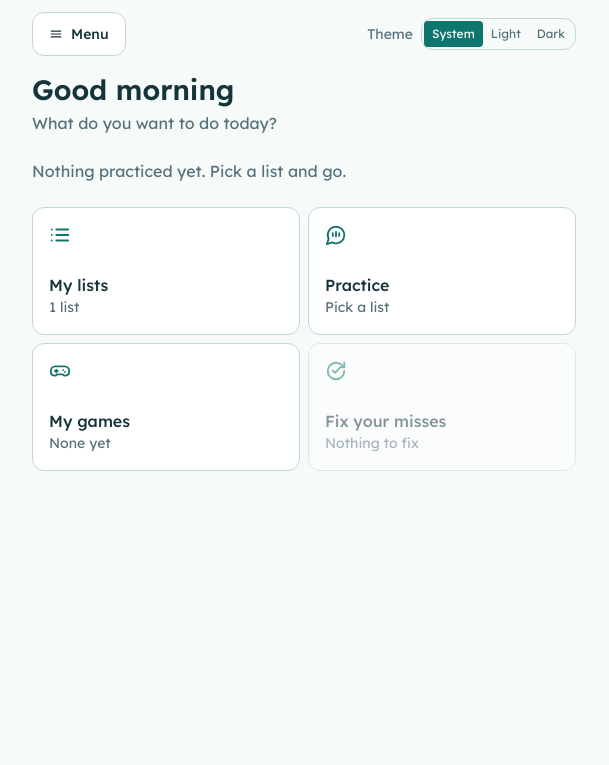
practicing a Dutch/French list › warns by name when the device has no French voice
The width and height of the screenshot is (609, 765).
Click the button "Menu". click: (79, 34)
box: [32,12,126,56]
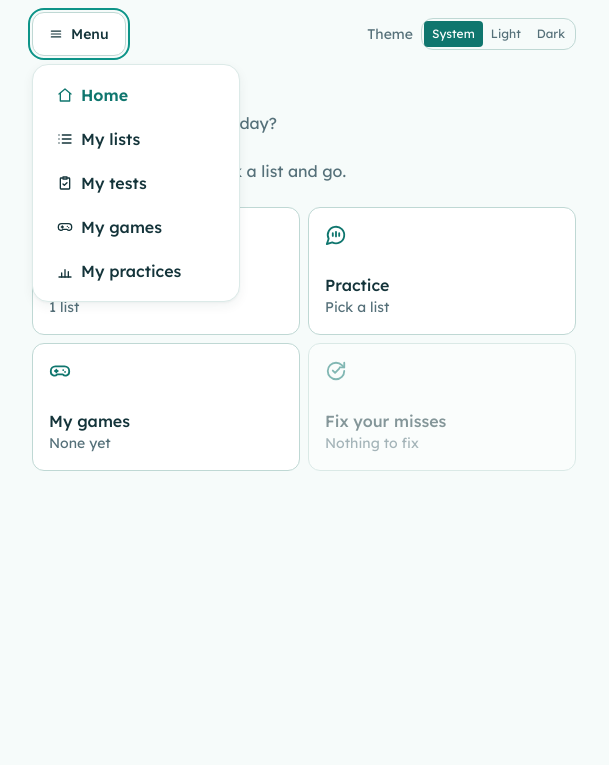
Click the menu item "My lists". click: (136, 139)
box: [41,117,231,161]
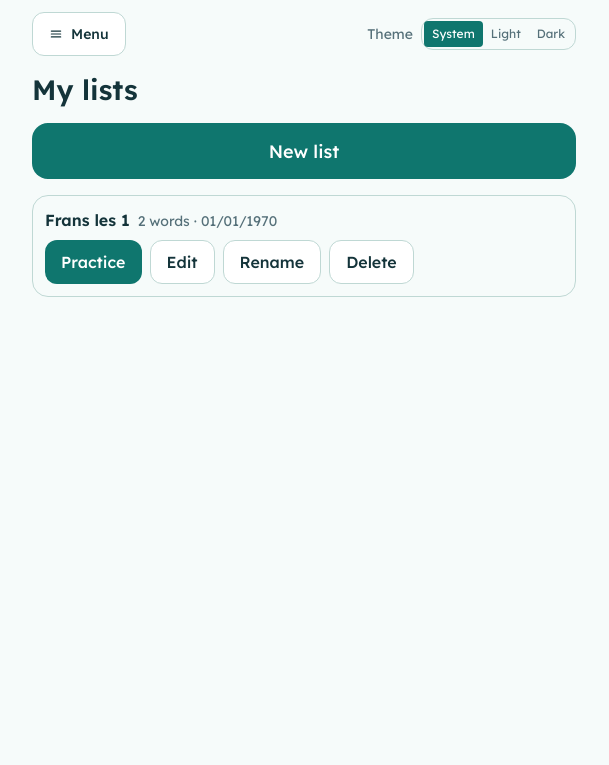
Click the button "Practice". click: (93, 262)
box: [45,240,142,284]
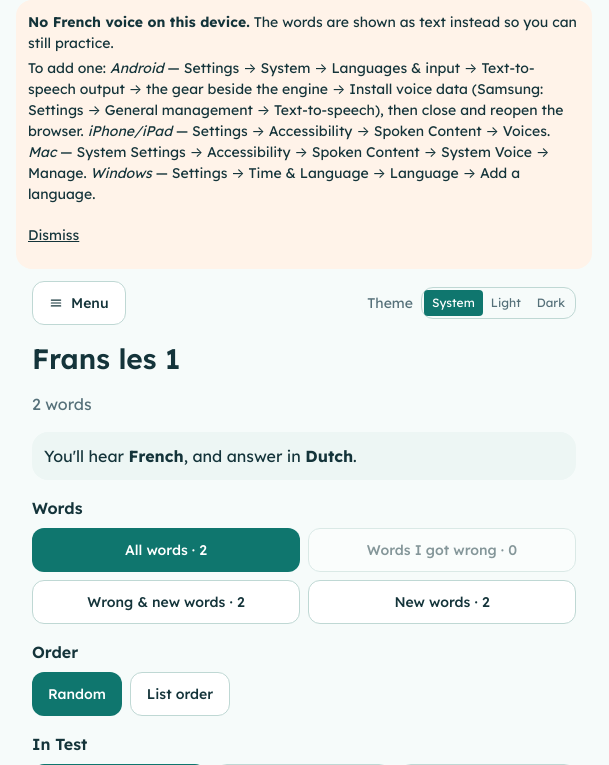
Check: the text "No French voice on this device." is shown, box [28,13,250,31]
